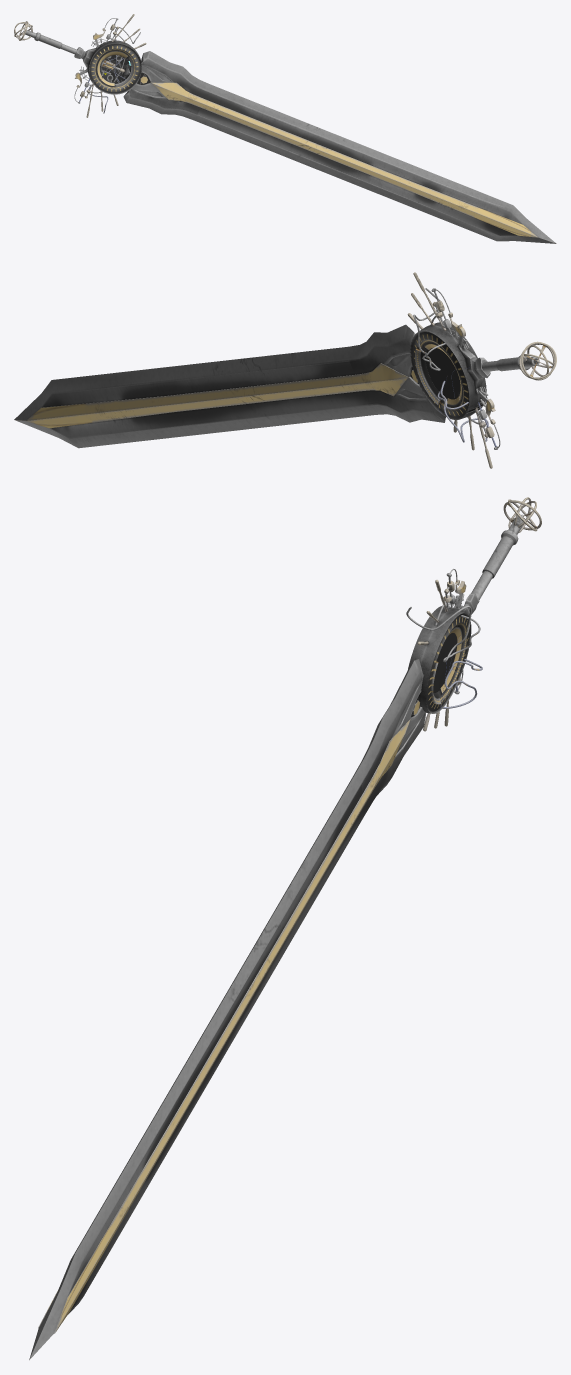
The model's file is free__steampunk_da_vincis_sword_game-ready.glb.
3 renders of one model, top to bottom at view 1: azimuth 30°, elevation 25°; view 2: azimuth 150°, elevation 25°; view 3: azimuth 270°, elevation 25°, orthographic. The views are drawn at different scales.
Visible parts, largest first — view 1: SteampunkSword; view 2: SteampunkSword; view 3: SteampunkSword.
Boxes of the visible parts, box(x1,y1,x2,y2) form: SteampunkSword: box(14, 14, 556, 243); SteampunkSword: box(14, 272, 556, 468); SteampunkSword: box(29, 497, 541, 1360).
Bounding box in the file's own units: 11.67 × 6.22 × 6.19.
1 material, 1 textured.
